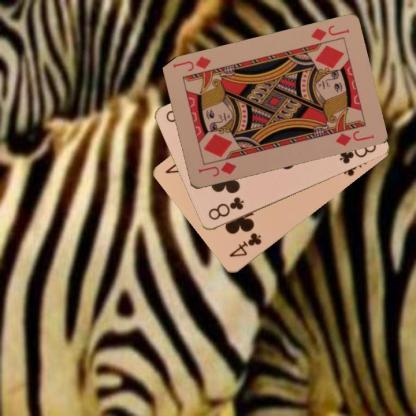4c: (226, 230, 263, 259)
8c: (206, 194, 246, 222)
Jd: (308, 22, 351, 42), (196, 159, 238, 178)
